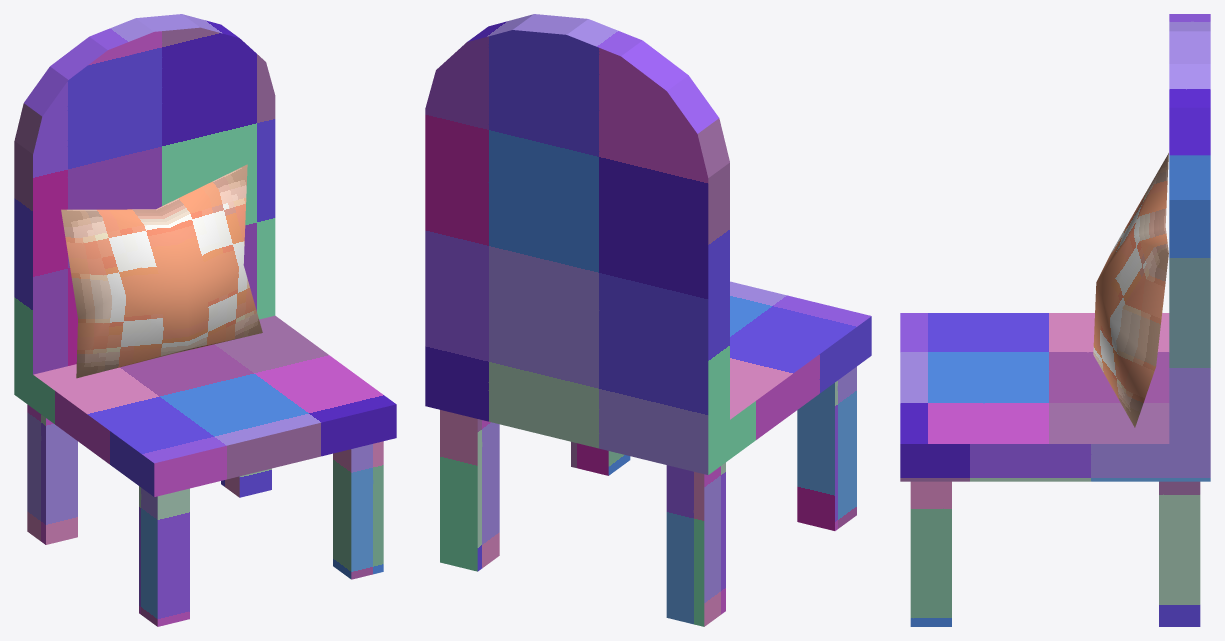
Rendered from rmk_grn_chairS_jwl.dae.
3 views of the same model, side by side, from view 1: azimuth 30°, elevation 25°; view 2: azimuth 150°, elevation 25°; view 3: azimuth 270°, elevation 25° (orthographic). The views are drawn at different scales.
Visible parts, largest first — view 1: rmk_grn_chairS_jwl; view 2: rmk_grn_chairS_jwl; view 3: rmk_grn_chairS_jwl.
Boxes of the visible parts, x1=… form: rmk_grn_chairS_jwl: x1=14, y1=14, x2=396, y2=626; rmk_grn_chairS_jwl: x1=425, y1=14, x2=871, y2=626; rmk_grn_chairS_jwl: x1=900, y1=14, x2=1210, y2=626.
Size of the model in its own units: 24 by 45.67 by 24.
2 materials, 2 textured.
